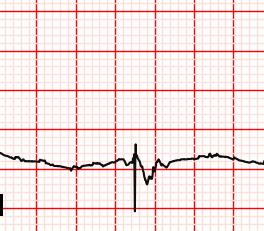Pathological Q Wave: (121, 155, 139, 215)
Poor R Progression: (125, 140, 143, 167)
T inversion: (138, 156, 175, 187)
